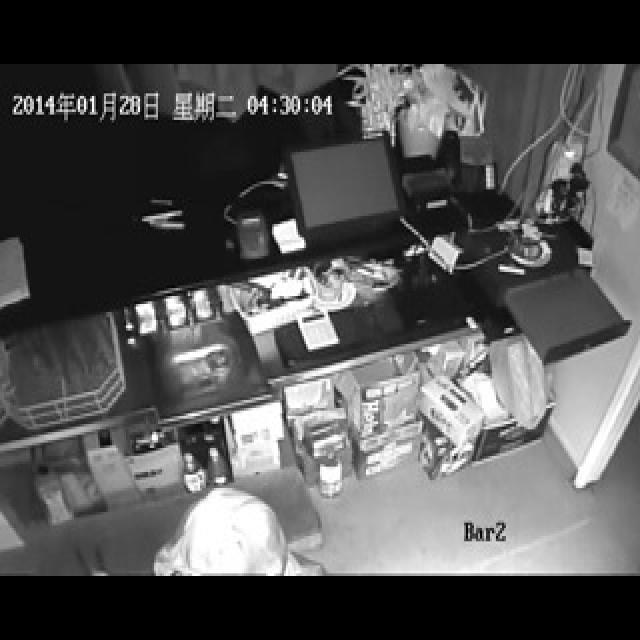thief: (174, 483, 301, 584)
